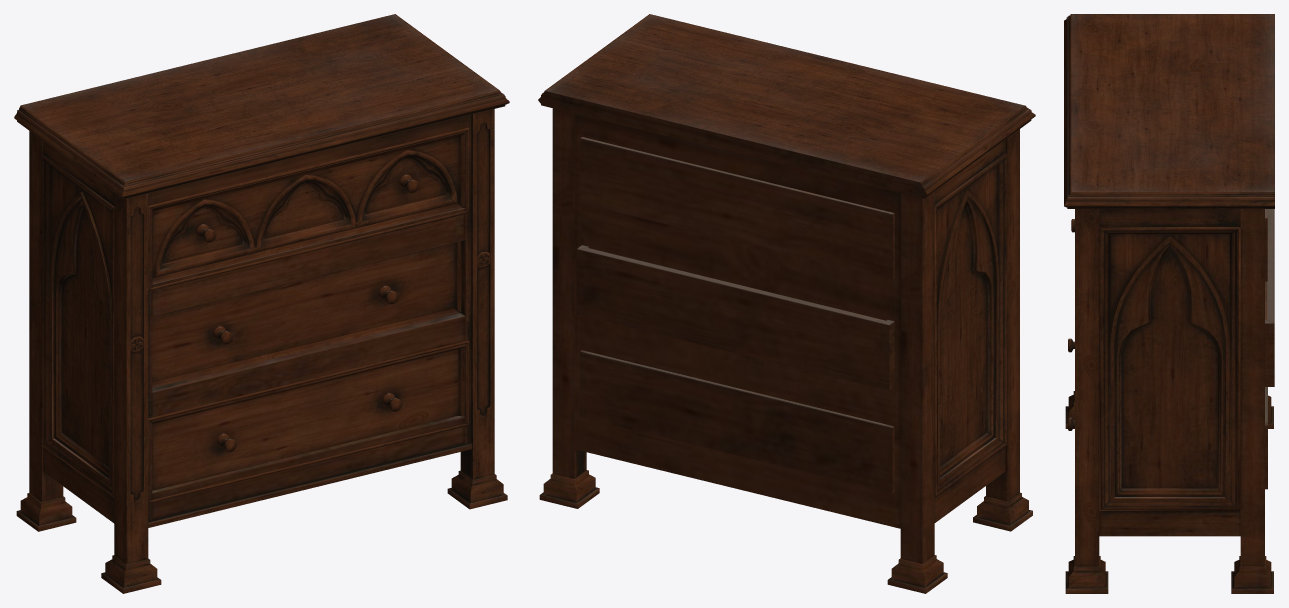
The model's file is GothicCommode_01.glb.
The picture shows the model from 3 angles, left to right: view 1: azimuth 30°, elevation 25°; view 2: azimuth 150°, elevation 25°; view 3: azimuth 270°, elevation 25°; orthographic projection. The views are drawn at different scales.
Visible parts, largest first — view 1: GothicCommode_01; view 2: GothicCommode_01; view 3: GothicCommode_01.
Boxes of the visible parts, left/top/right/bottom form: GothicCommode_01: left=14, top=14, right=509, bottom=593; GothicCommode_01: left=538, top=14, right=1035, bottom=593; GothicCommode_01: left=1064, top=14, right=1274, bottom=593.
Bounding box in the file's own units: 1.2 × 1.21 × 0.5806.
1 material, 1 textured.
